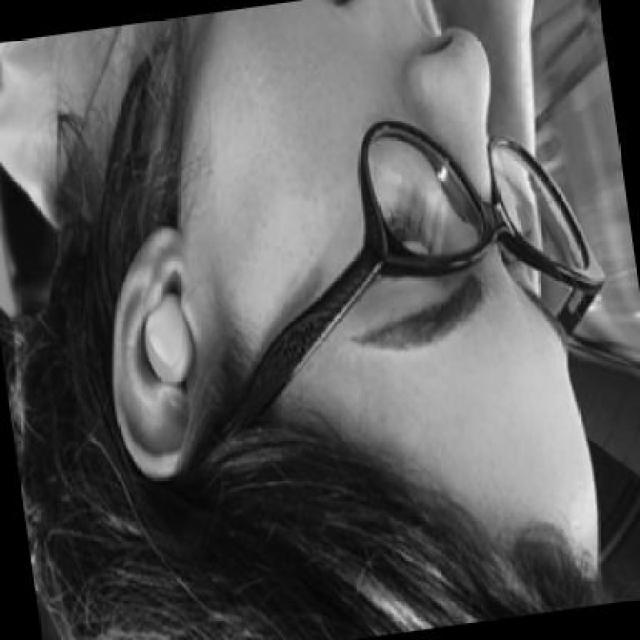earphone: (144, 294, 194, 384)
